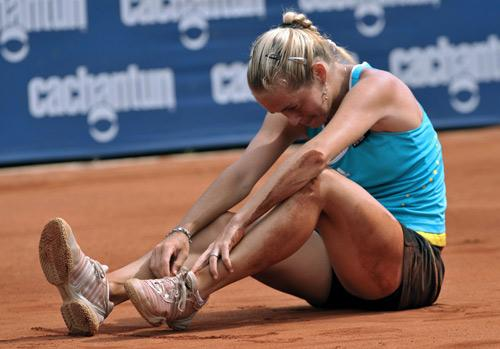down: (32, 8, 456, 340)
